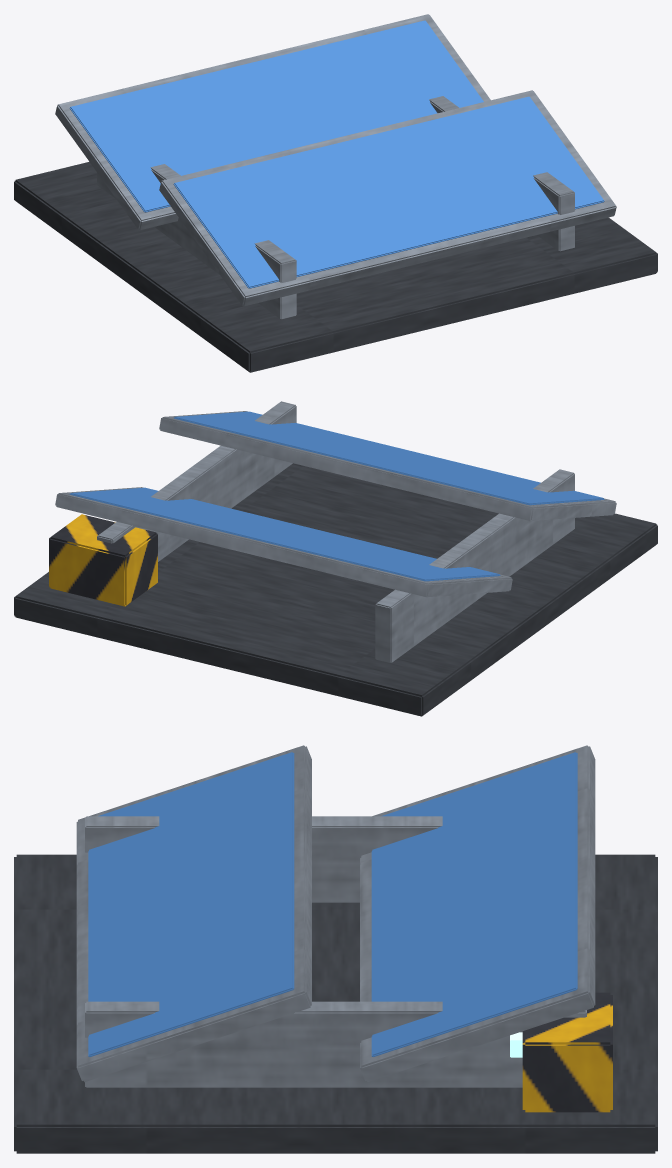
The model's file is roof_solar.glb.
The picture shows the model from 3 angles, top to bottom: view 1: azimuth 30°, elevation 25°; view 2: azimuth 150°, elevation 25°; view 3: azimuth 270°, elevation 25°; orthographic projection. The views are drawn at different scales.
Parts seen in each view (by area): view 1: roof_solar; view 2: roof_solar; view 3: roof_solar.
Boxes of the visible parts, x1,y1,x2,y2 form: roof_solar: (14, 14, 657, 372); roof_solar: (14, 401, 657, 716); roof_solar: (14, 745, 657, 1153).
Size of the model in its own units: 2 by 0.5161 by 2.
Materials: 5 (3 with a texture image).
